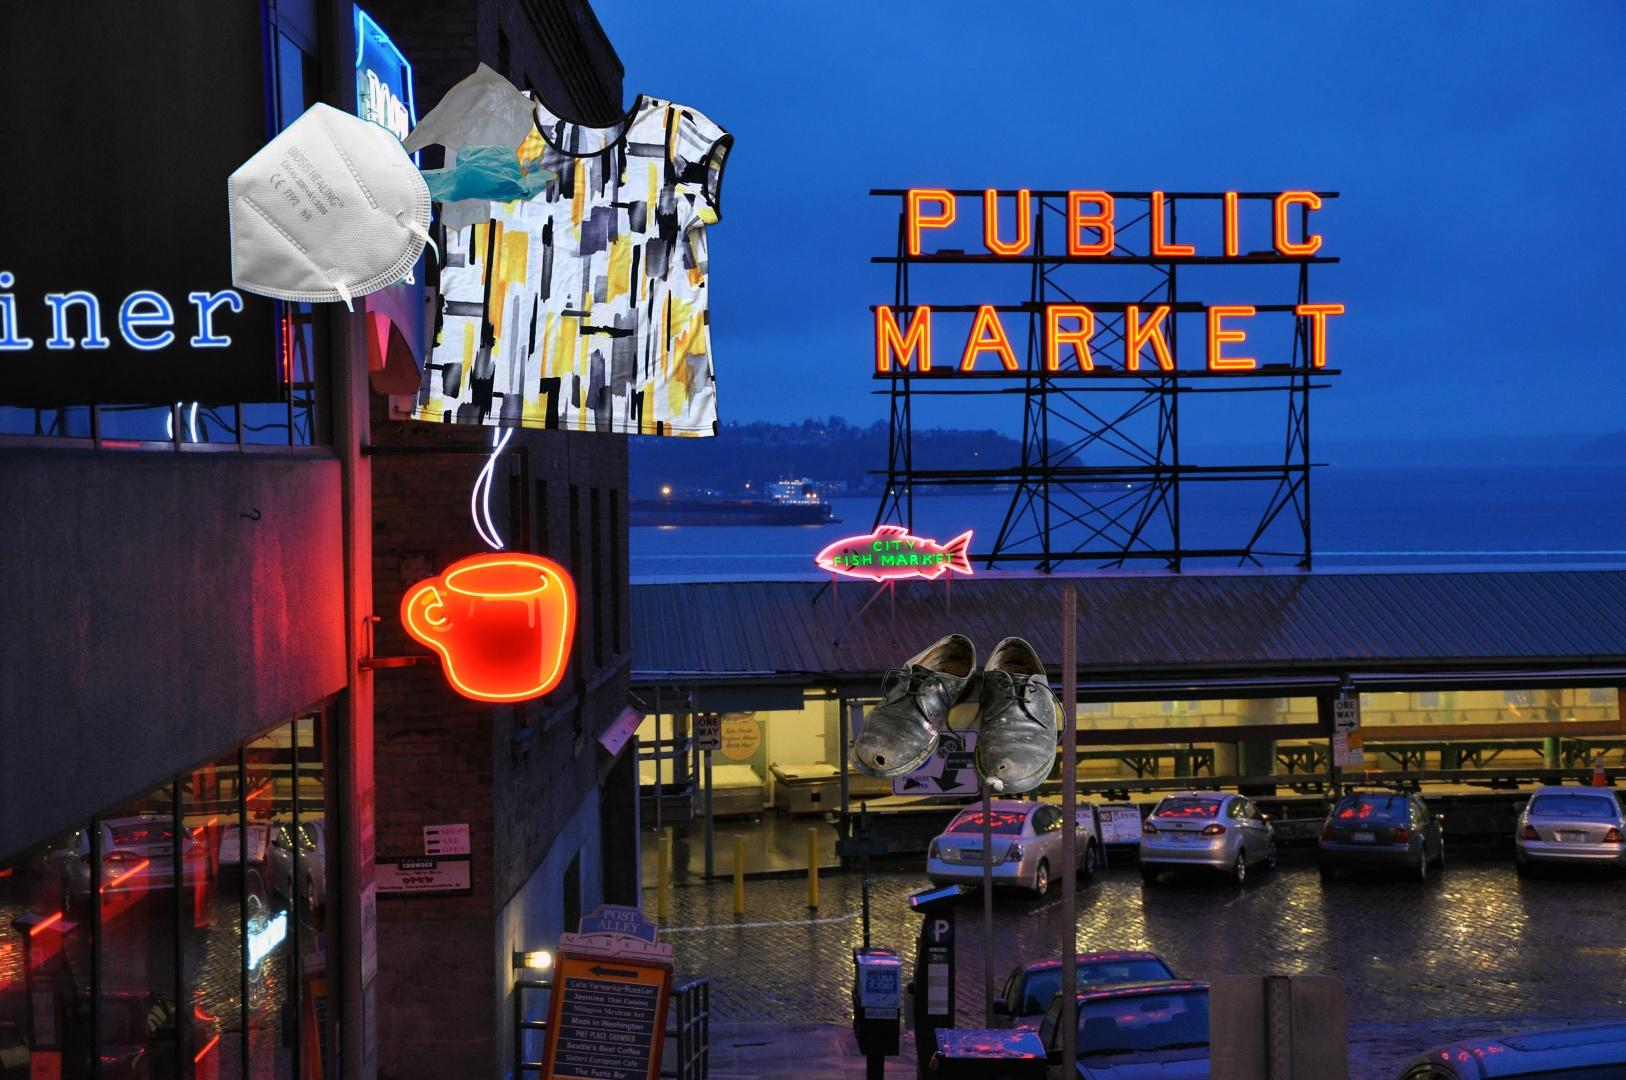clothes: (407, 84, 738, 444)
plastic-bag: (372, 60, 560, 234)
shoes: (843, 630, 1070, 797)
trash: (224, 99, 442, 312)
